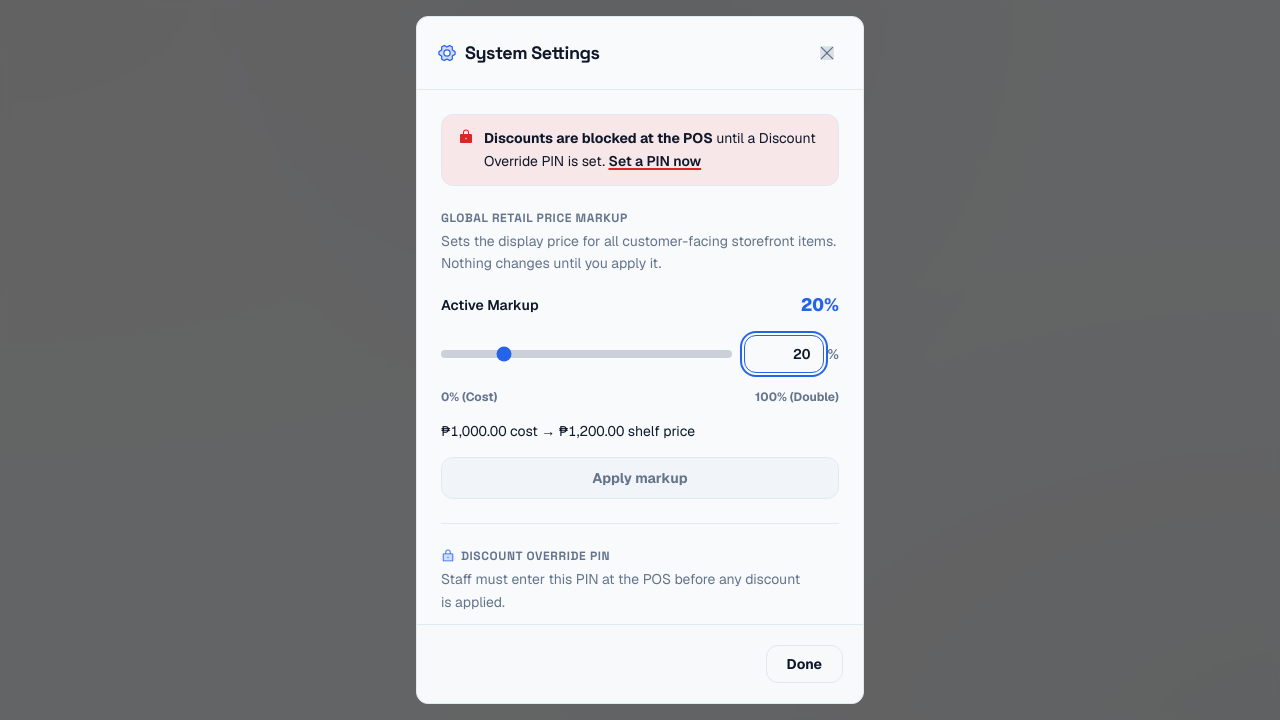
Test: AdminSettings — markup › shows a worked example of the draft markup
This screenshot has width=1280, height=720.
Expected: the text "₱1,000.00 cost → ₱1,200.00 shelf price" is shown, [441, 422, 695, 440]
Replace the text in the number field named "markup percentage" with "25" at (784, 354), box [744, 335, 824, 373]
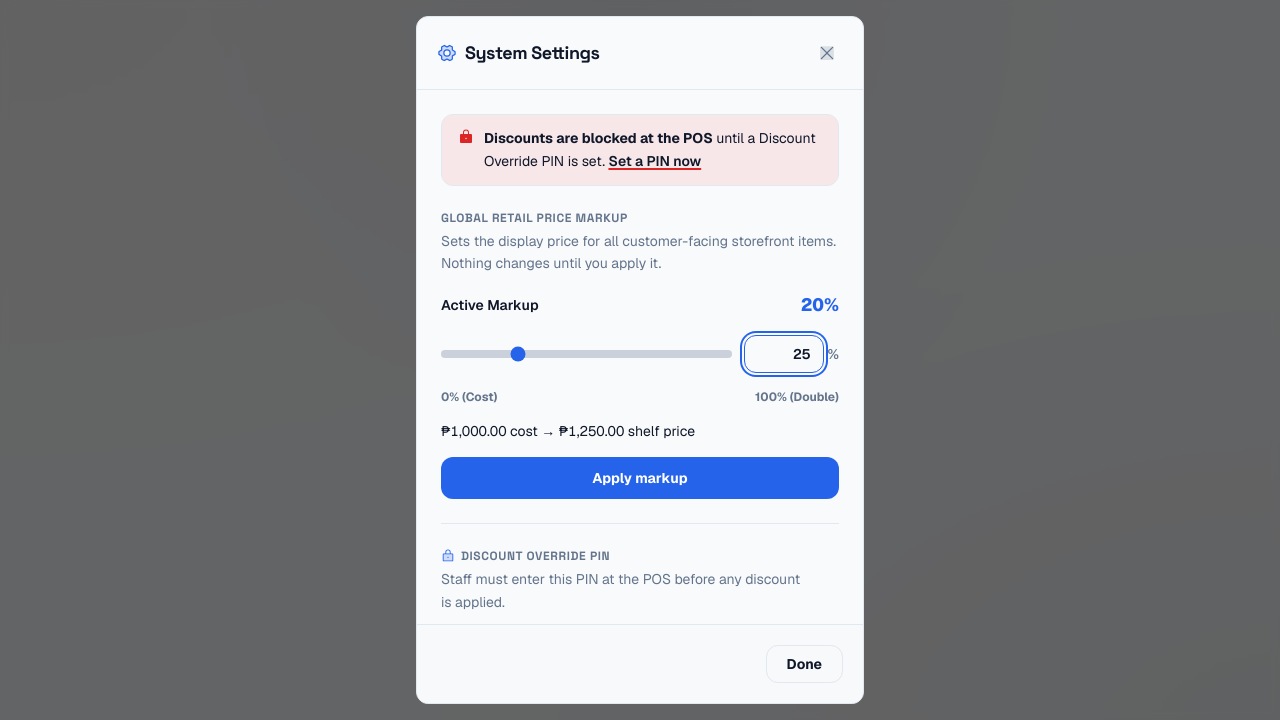
Expected: the text "₱1,000.00 cost → ₱1,250.00 shelf price" is shown, [441, 422, 695, 440]
